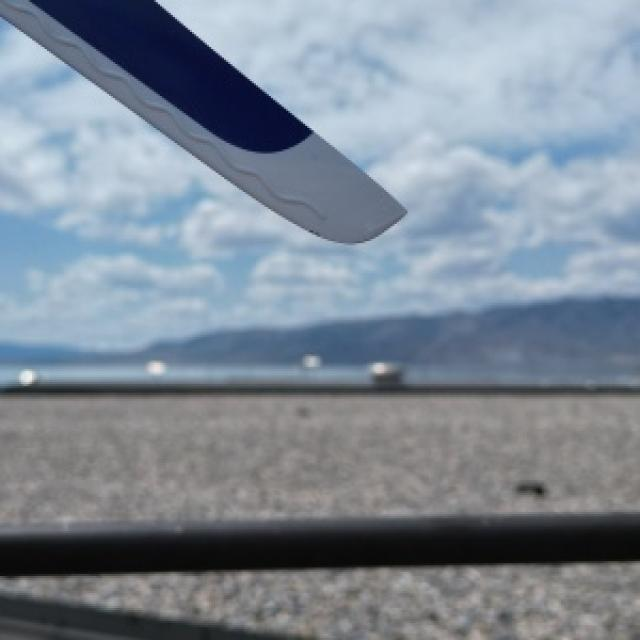healthy: (0, 0, 401, 241)
